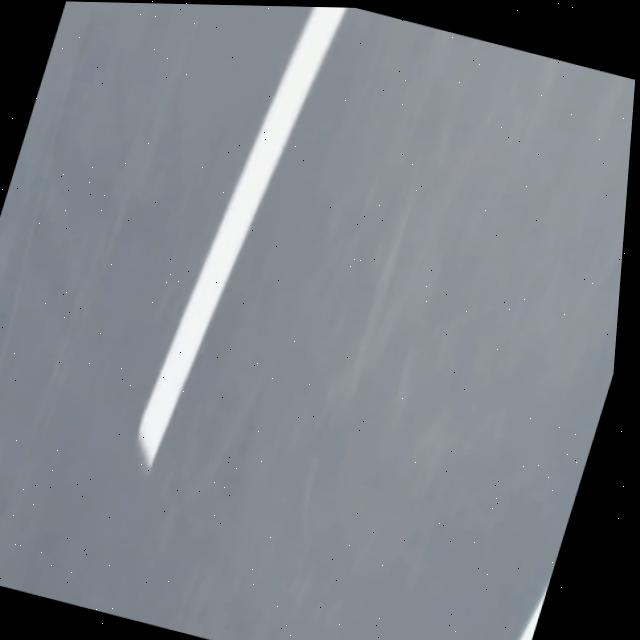center: (138, 7, 347, 469)
left: (519, 585, 547, 640)
